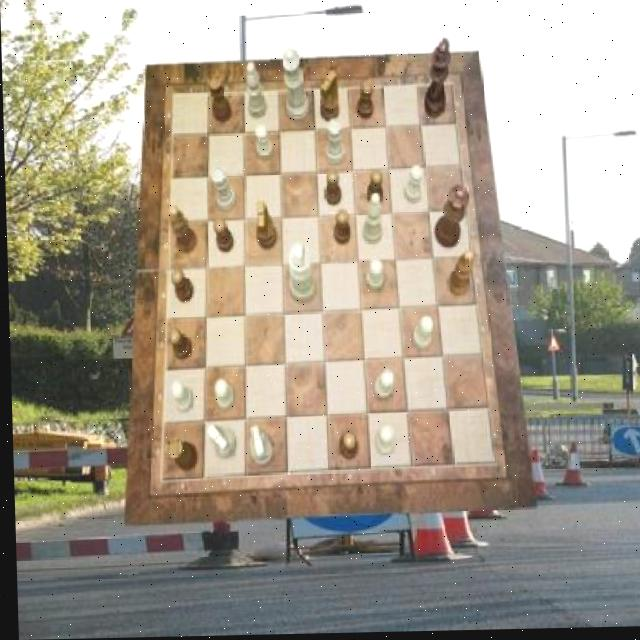bishop: (168, 207, 197, 255), (446, 252, 473, 298)
black-bishop: (423, 40, 452, 120)
black-king: (319, 73, 339, 124), (256, 203, 277, 251)
black-knight: (169, 269, 192, 304), (166, 329, 190, 362), (213, 219, 233, 254), (356, 83, 374, 121), (324, 171, 342, 207), (366, 172, 383, 208), (333, 211, 350, 246), (338, 434, 356, 462)
black-pawn: (431, 187, 468, 250)
black-queen: (206, 76, 231, 124), (164, 438, 196, 473)
black-rook: (246, 63, 267, 120), (362, 195, 383, 248)
white-bishop: (286, 244, 314, 304)
white-king: (204, 424, 234, 459), (247, 426, 271, 467)
white-knight: (169, 382, 193, 414), (403, 168, 422, 206), (411, 317, 431, 352), (254, 126, 272, 161), (363, 261, 382, 294), (373, 427, 393, 458), (213, 379, 233, 410), (372, 372, 392, 400)
white-pawn: (281, 49, 309, 123)
white-queen: (210, 167, 235, 213), (324, 120, 345, 166)
